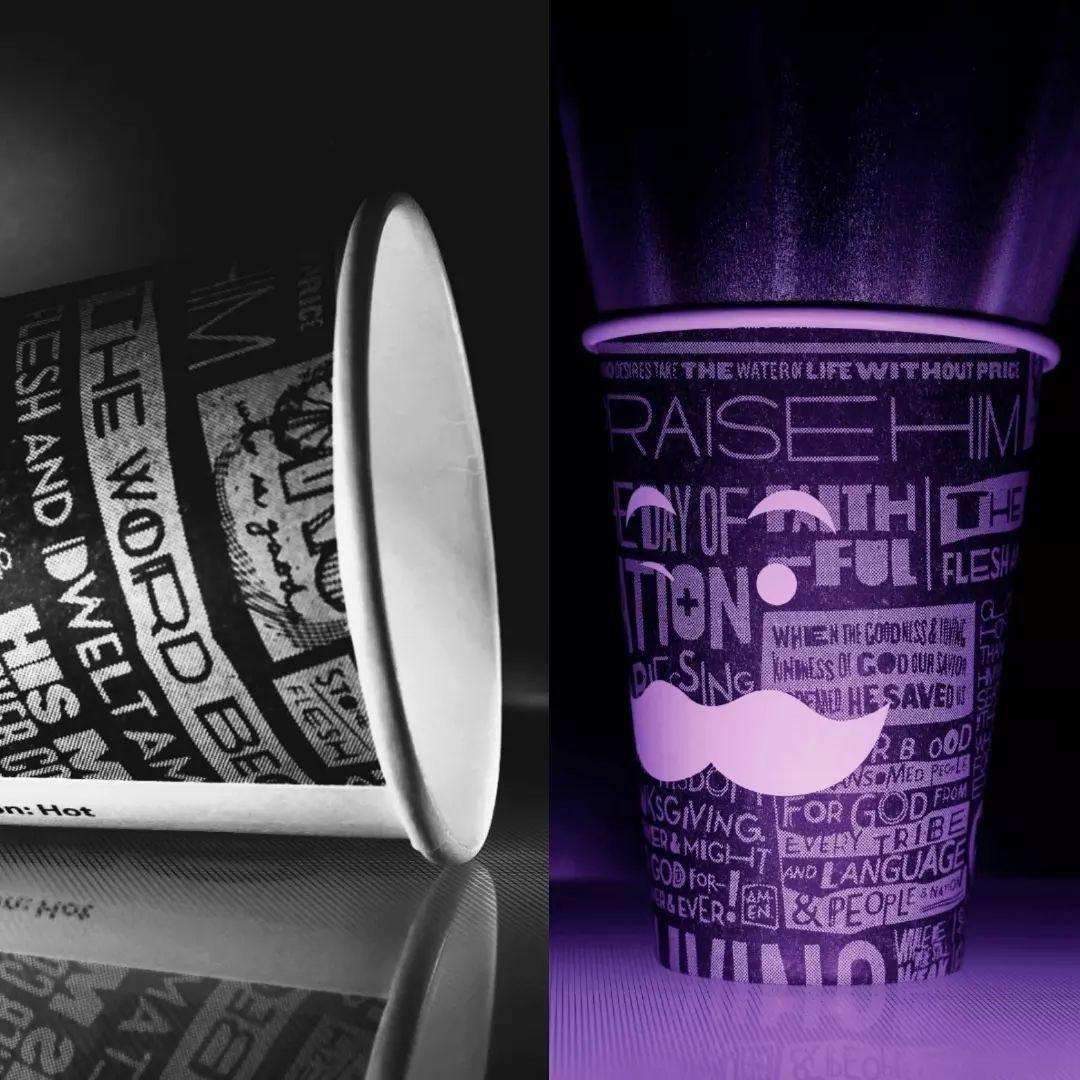cup-disposable: (1, 171, 509, 864), (578, 308, 1056, 1000)
